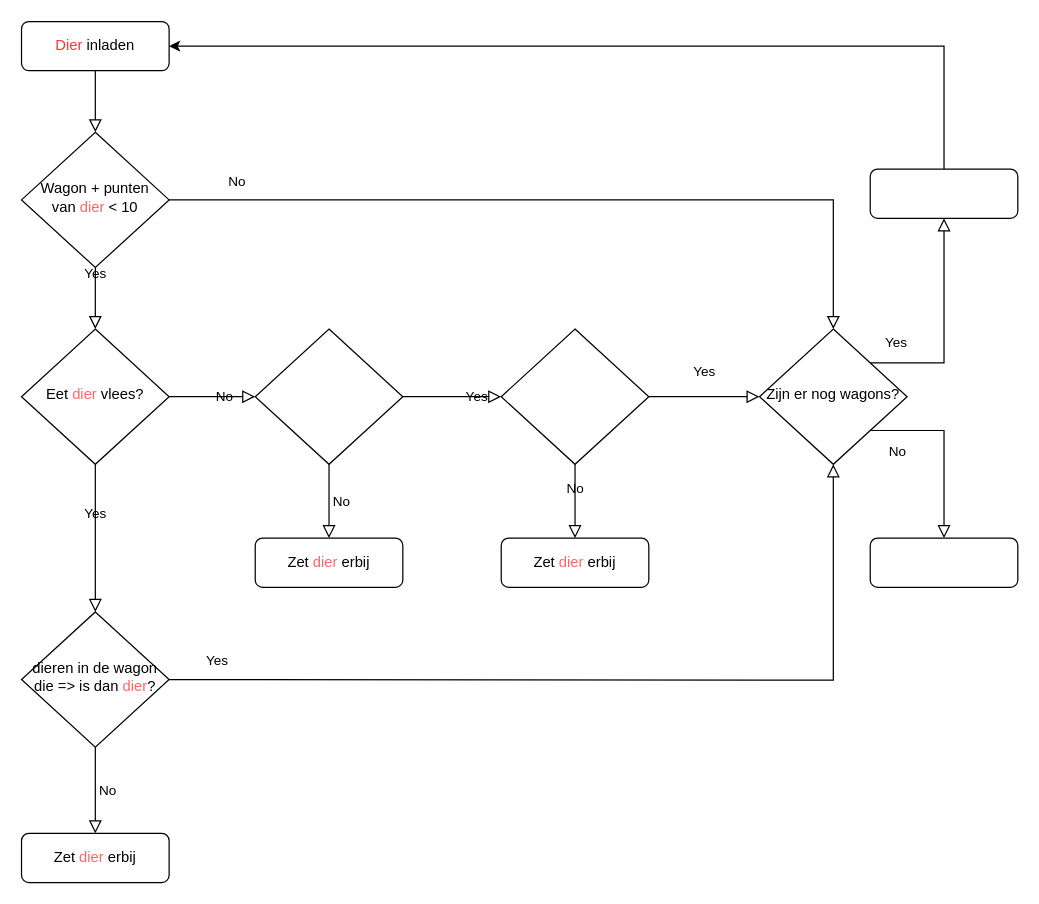
This 1039x904 diagram has some shape labels left out. The shapes that lost their labels are listed below. From the top down, each one's centre as x and y in pixels, then its label:
At (943,193): "Ga naar volgende wagon".
At (328,396): "Dieren in de wagon die vlees eten?".
At (574,396): "Vleesetende dieren in de wagon die => is dan dier ?".
At (943,562): "Nieuwe wagon + zet dier erbij".
